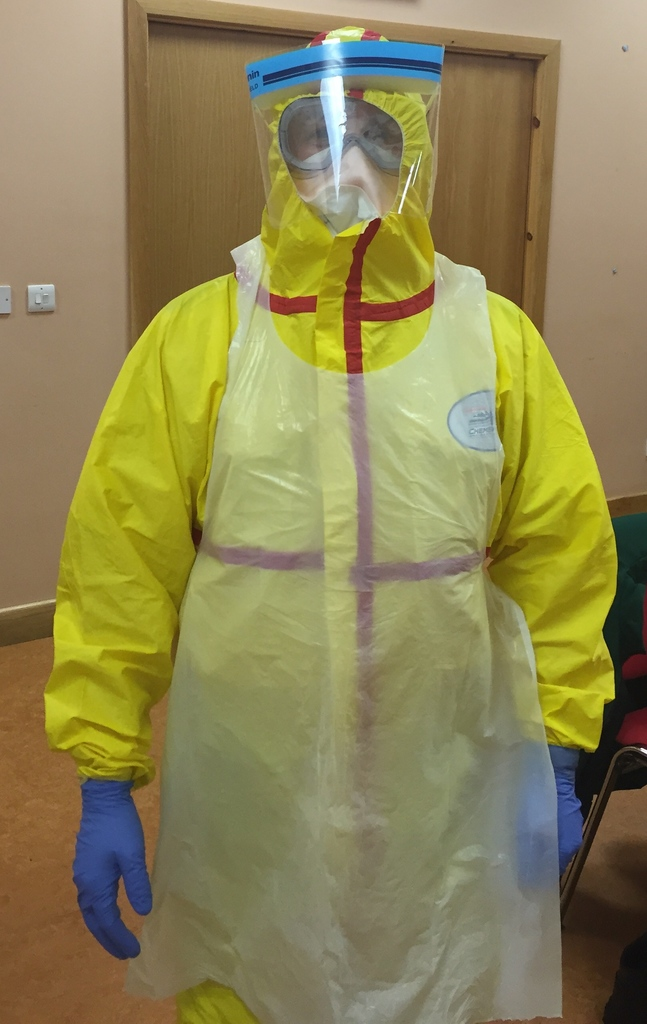Person: (42, 25, 617, 1023)
